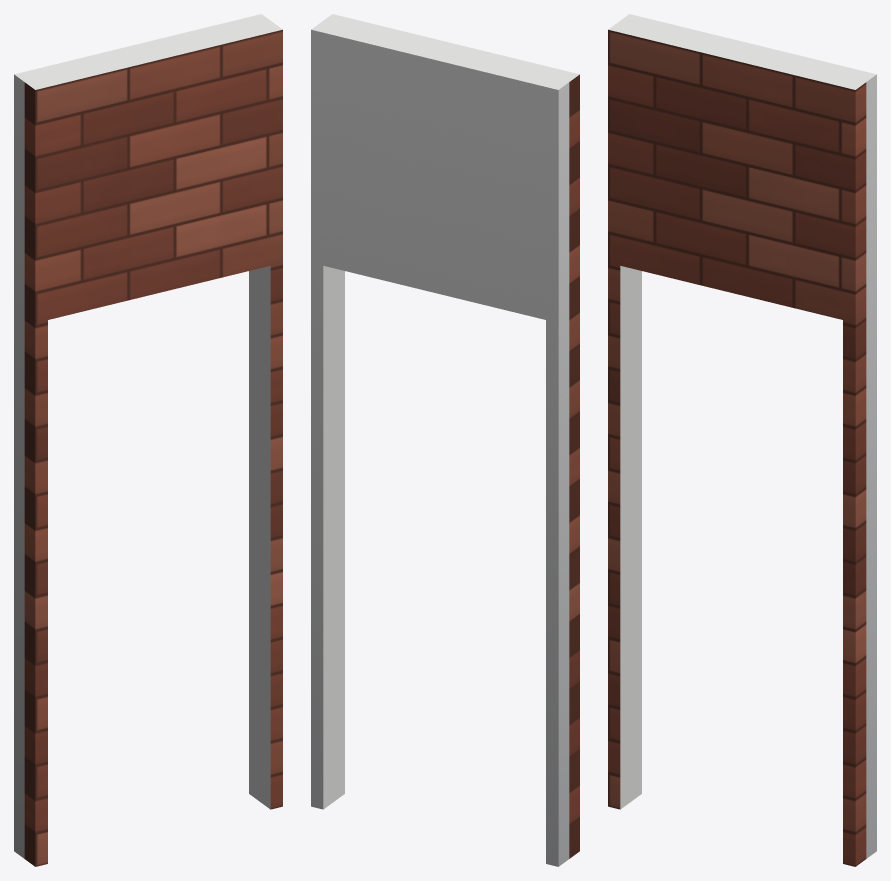
Rendered from porta_1m.glb.
The picture shows the model from 3 angles, left to right: view 1: azimuth 30°, elevation 25°; view 2: azimuth 150°, elevation 25°; view 3: azimuth 330°, elevation 25°; orthographic projection.
Parts seen in each view (by area): view 1: porta_1m; view 2: porta_1m; view 3: porta_1m.
Part boxes in pixels (box(x1,y1,x2,y2)): porta_1m: box(14, 14, 282, 866); porta_1m: box(311, 14, 579, 866); porta_1m: box(608, 14, 876, 866).
Bounding box in the file's own units: 1 × 3 × 0.15.
3 materials, 2 textured.
